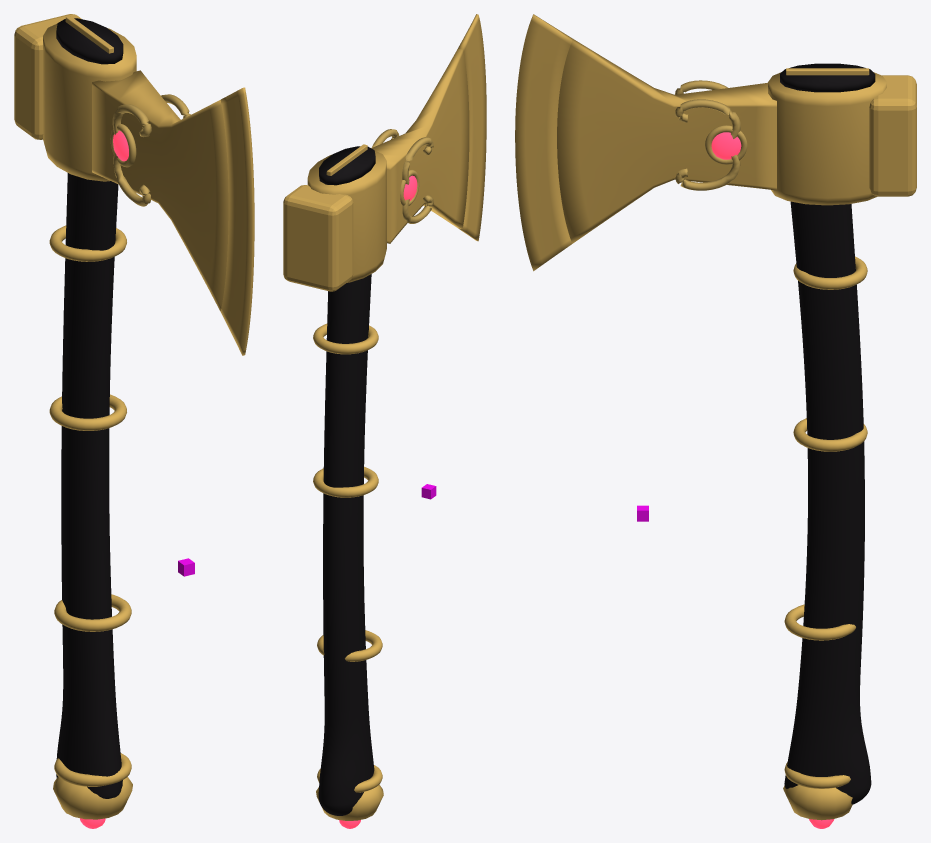
The model's file is wc-gold-axe.glb.
3 renders of one model, left to right at view 1: azimuth 30°, elevation 25°; view 2: azimuth 150°, elevation 25°; view 3: azimuth 270°, elevation 25°, orthographic. The views are drawn at different scales.
Parts seen in each view (by area): view 1: Body0__BlackLacquer__18_16_18; view 2: Body0__BlackLacquer__18_16_18; view 3: Body0__BlackLacquer__18_16_18.
Part boxes in pixels (bbox=[...]): Body0__BlackLacquer__18_16_18: bbox=[14, 14, 254, 828]; Body0__BlackLacquer__18_16_18: bbox=[283, 14, 486, 828]; Body0__BlackLacquer__18_16_18: bbox=[515, 14, 916, 828].
Bounding box in the file's own units: 0.1724 × 2 × 0.8955.
